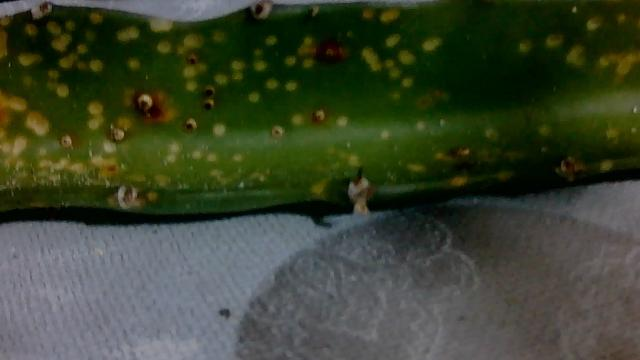stemcanker: (0, 1, 637, 240)
